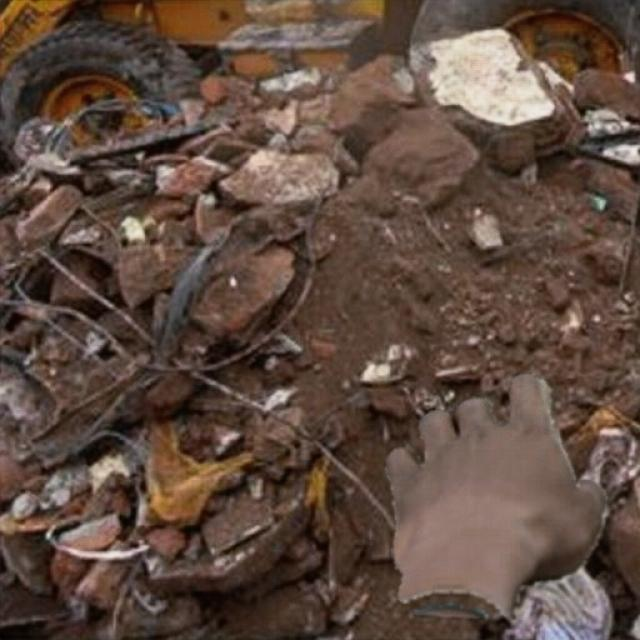Person in Rubble: (385, 372, 606, 618)
